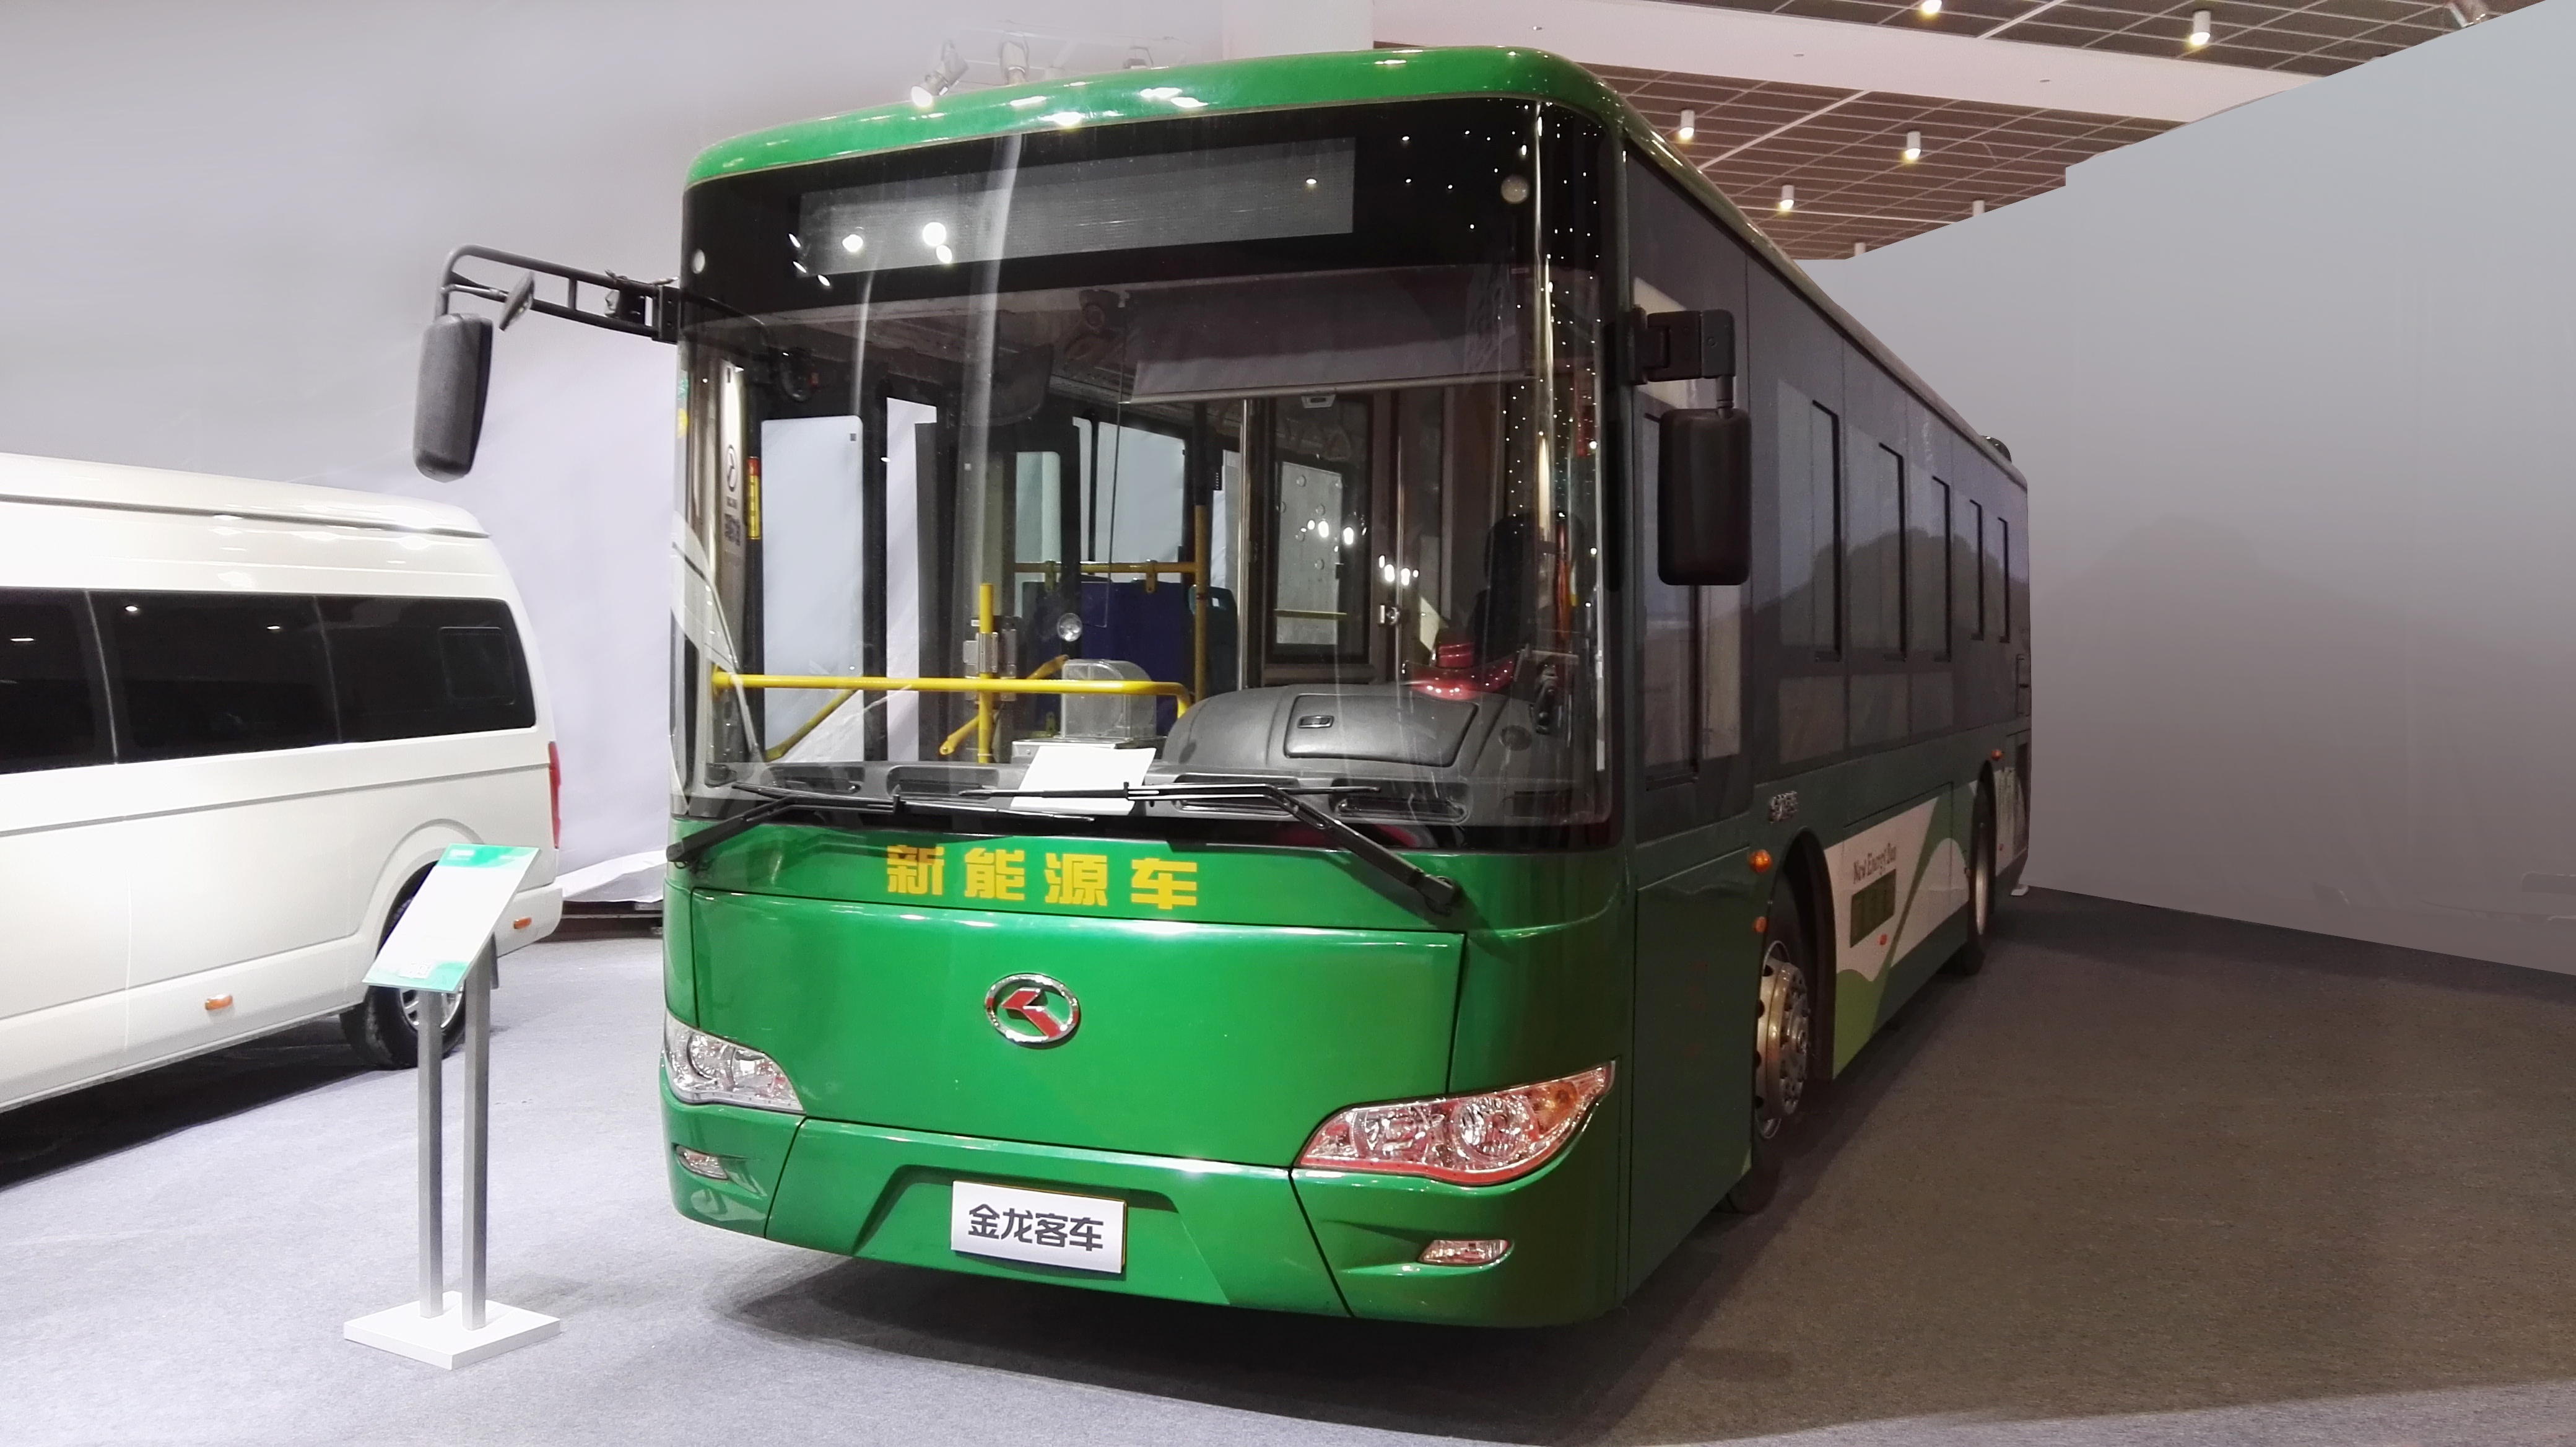bus: (547, 57, 2065, 1373)
minibus: (7, 437, 563, 1139)
